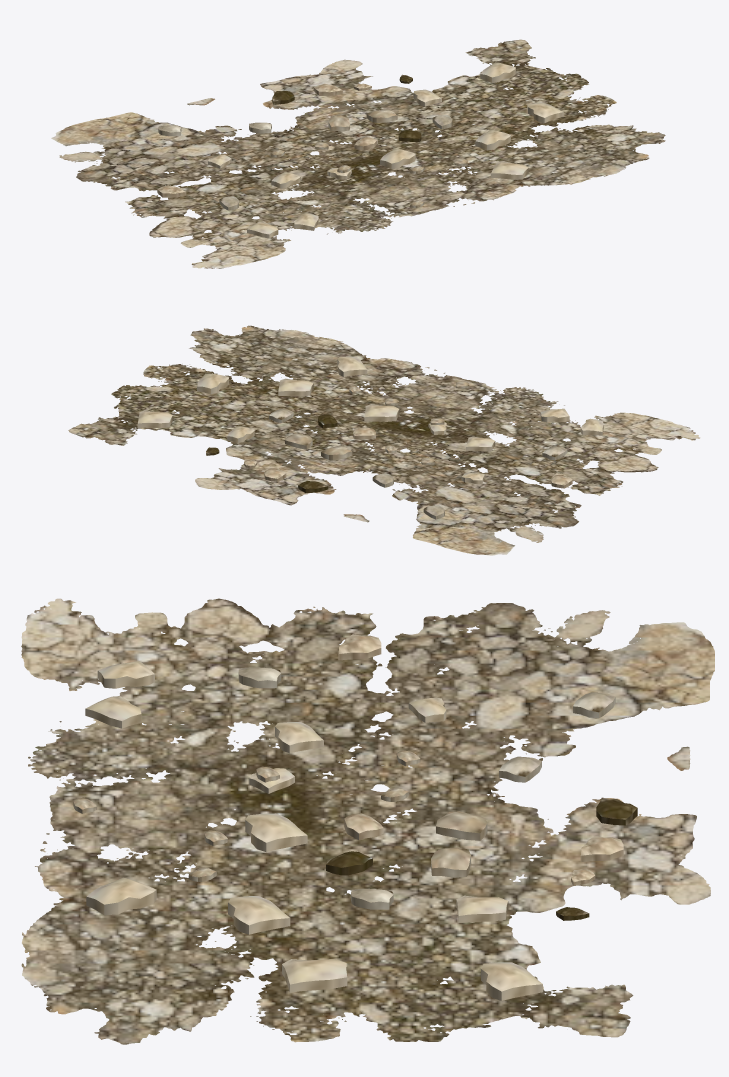
Rendered from Debris01_12.FBX.
3 views of the same model, one above another, from view 1: azimuth 30°, elevation 25°; view 2: azimuth 150°, elevation 25°; view 3: azimuth 270°, elevation 25° (orthographic). The views are drawn at different scales.
Parts seen in each view (by area): view 1: Debris01_1; view 2: Debris01_1; view 3: Debris01_1.
Boxes of the visible parts, x1,y1,x2,y2 form: Debris01_1: [51, 39, 665, 268]; Debris01_1: [68, 325, 700, 555]; Debris01_1: [21, 598, 714, 1044].
Bounding box in the file's own units: 114 × 2.04 × 72.35.
